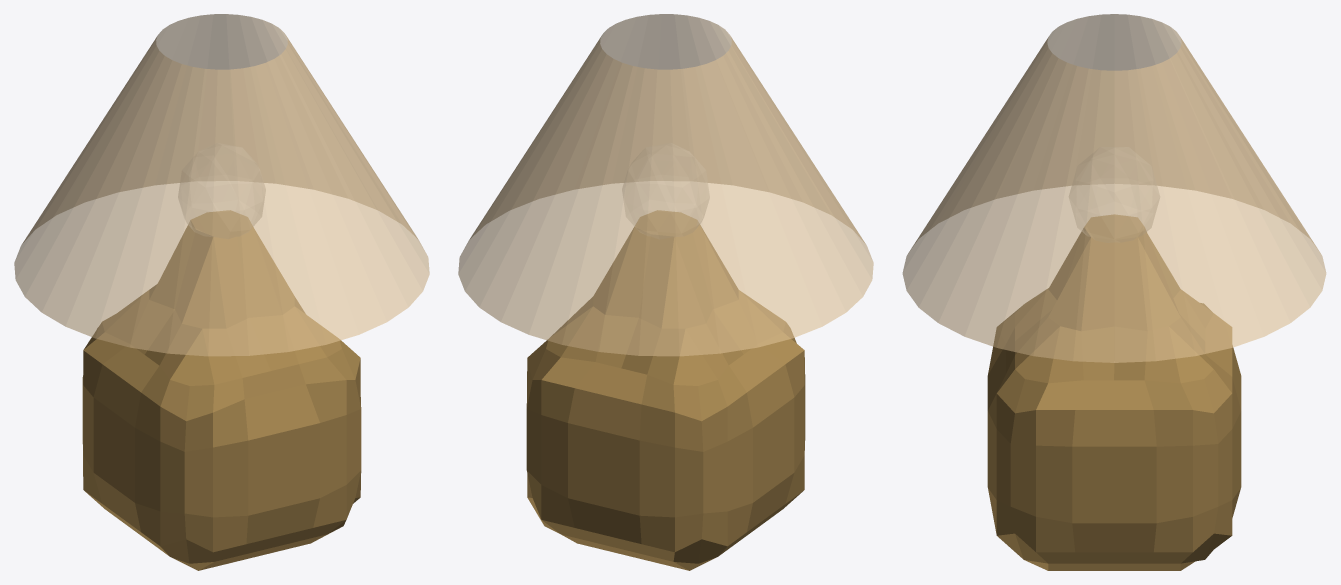
File: lumière.fbx
3 views of the same model, side by side, from view 1: azimuth 30°, elevation 25°; view 2: azimuth 150°, elevation 25°; view 3: azimuth 270°, elevation 25° (orthographic).
Visible parts, largest first — view 1: Cylindre, Cube, Icosphère; view 2: Cylindre, Cube, Icosphère; view 3: Cylindre, Cube, Icosphère.
Part boxes in pixels (box(x1,y1,x2,y2)): Cylindre: box(14, 14, 429, 356); Cube: box(82, 210, 361, 570); Icosphère: box(178, 143, 265, 228); Cylindre: box(458, 14, 873, 356); Cube: box(526, 210, 805, 570); Icosphère: box(622, 143, 709, 228); Cylindre: box(902, 14, 1326, 362); Cube: box(987, 214, 1241, 570); Icosphère: box(1069, 147, 1159, 233).
Bounding box in the file's own units: 128 × 167 × 128.
